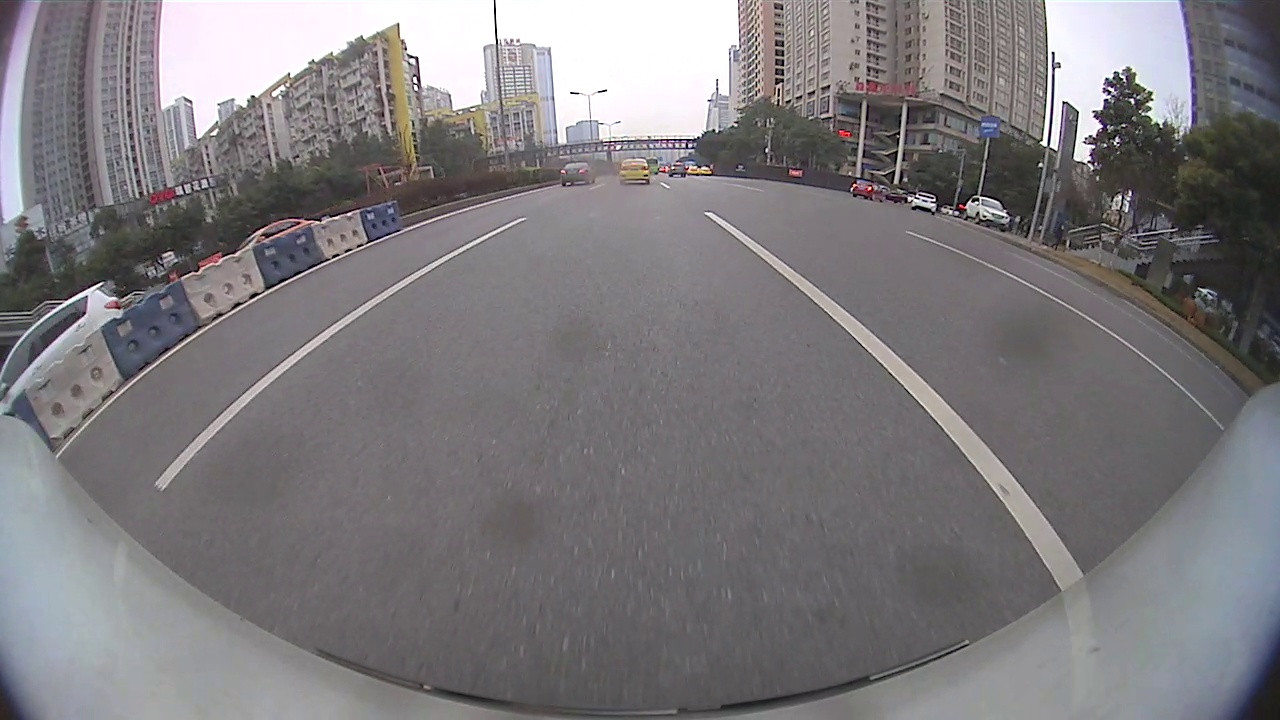car: (1, 282, 123, 412), (226, 217, 324, 255), (963, 194, 1009, 231), (559, 159, 594, 186), (618, 157, 651, 185), (910, 190, 938, 215), (852, 181, 885, 202), (669, 162, 688, 178)
